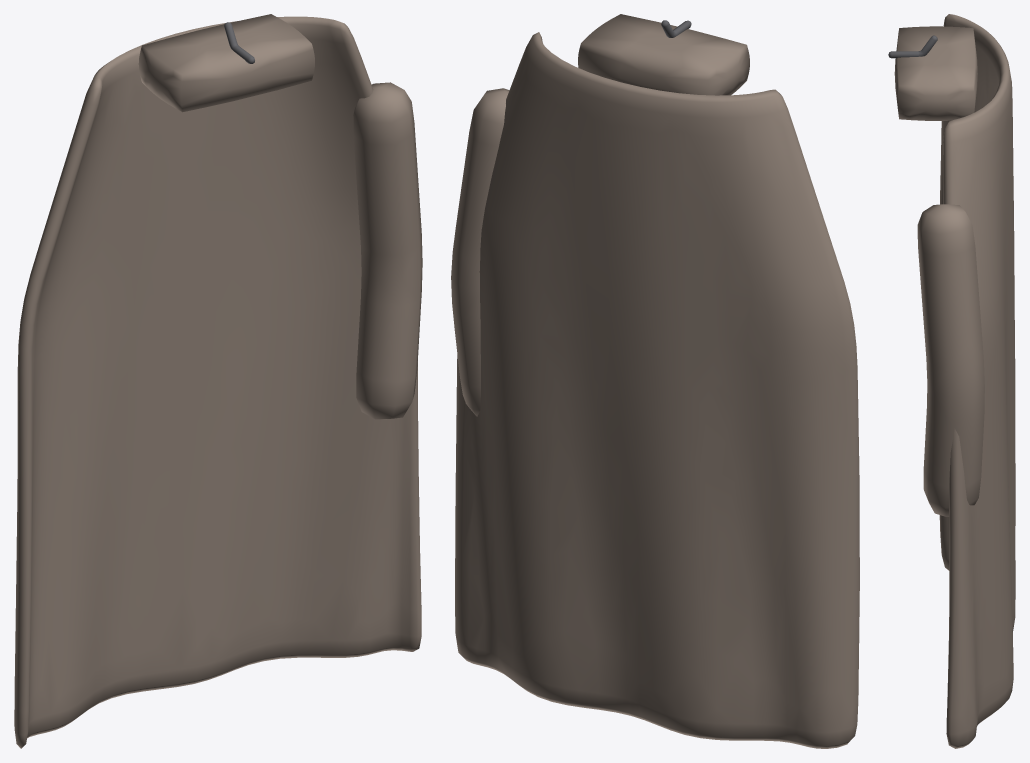
Rendered from coat_on_hook.glb.
3 views of the same model, side by side, from view 1: azimuth 30°, elevation 25°; view 2: azimuth 150°, elevation 25°; view 3: azimuth 270°, elevation 25° (orthographic). The views are drawn at different scales.
Visible parts, largest first — view 1: coat_on_hook; view 2: coat_on_hook; view 3: coat_on_hook.
Boxes of the visible parts, bbox=[...] form: coat_on_hook: bbox=[14, 14, 422, 748]; coat_on_hook: bbox=[451, 14, 859, 748]; coat_on_hook: bbox=[888, 14, 1015, 748].
Bounding box in the file's own units: 0.619 × 0.9983 × 0.1837.
